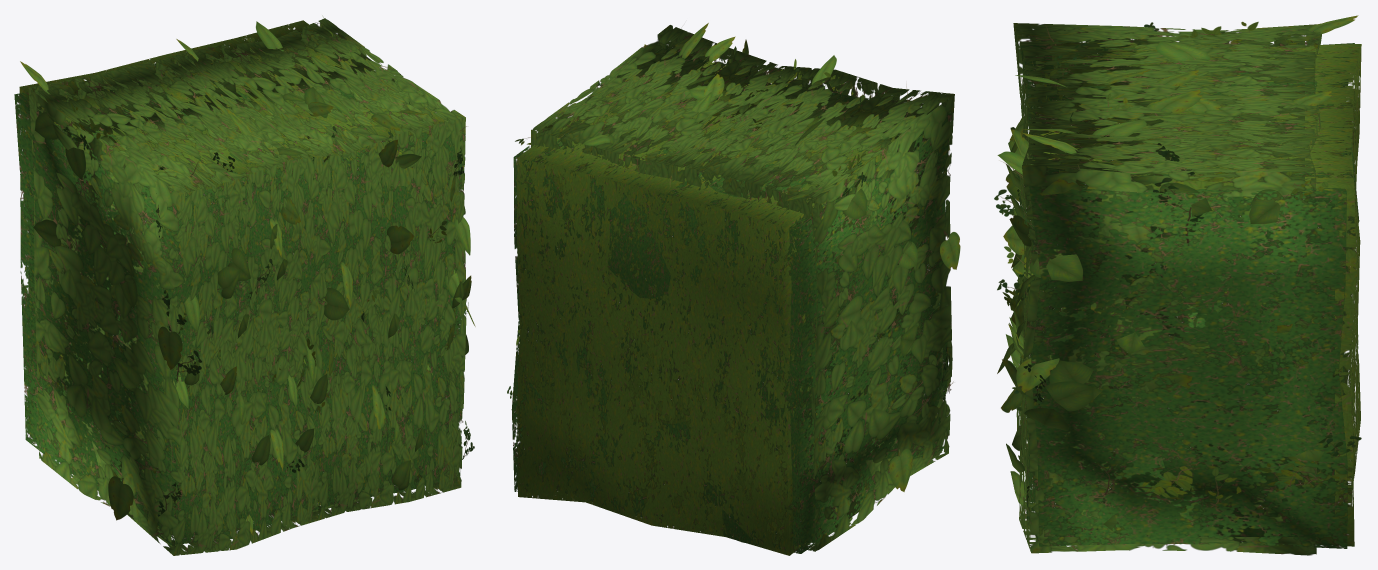
The model's file is shrubs.glb.
3 views of the same model, side by side, from view 1: azimuth 30°, elevation 25°; view 2: azimuth 150°, elevation 25°; view 3: azimuth 270°, elevation 25° (orthographic). The views are drawn at different scales.
Parts seen in each view (by area): view 1: ShrubLargePart0, ShrubSmallPart0, ShrubLargePart1, ShrubMediumPart0, ShrubSmallPart1, ShrubMediumPart1; view 2: ShrubMediumPart0, ShrubLargePart0, ShrubSmallPart0, ShrubLargePart1, ShrubMediumPart1, ShrubSmallPart1; view 3: ShrubSmallPart0, ShrubLargePart0, ShrubLargePart1, ShrubMediumPart0, ShrubMediumPart1, ShrubSmallPart1.
Boxes of the visible parts, x1=… form: ShrubLargePart0: x1=28, y1=18, x2=466, y2=555; ShrubSmallPart0: x1=14, y1=31, x2=465, y2=544; ShrubLargePart1: x1=20, y1=21, x2=475, y2=534; ShrubMediumPart0: x1=19, y1=20, x2=444, y2=505; ShrubSmallPart1: x1=63, y1=74, x2=474, y2=516; ShrubMediumPart1: x1=54, y1=17, x2=466, y2=516; ShrubMediumPart0: x1=517, y1=53, x2=924, y2=555; ShrubLargePart0: x1=531, y1=25, x2=954, y2=551; ShrubSmallPart0: x1=511, y1=45, x2=950, y2=553; ShrubLargePart1: x1=582, y1=23, x2=960, y2=491; ShrubMediumPart1: x1=515, y1=49, x2=925, y2=423; ShrubSmallPart1: x1=507, y1=55, x2=953, y2=435; ShrubSmallPart0: x1=1021, y1=43, x2=1359, y2=548; ShrubLargePart0: x1=1013, y1=23, x2=1321, y2=555; ShrubLargePart1: x1=997, y1=15, x2=1358, y2=535; ShrubMediumPart0: x1=1050, y1=42, x2=1361, y2=546; ShrubMediumPart1: x1=1001, y1=21, x2=1356, y2=529; ShrubSmallPart1: x1=994, y1=22, x2=1361, y2=523.
Size of the model in its own units: 2 by 2.4 by 2.
Materials: 6 (6 with a texture image).
